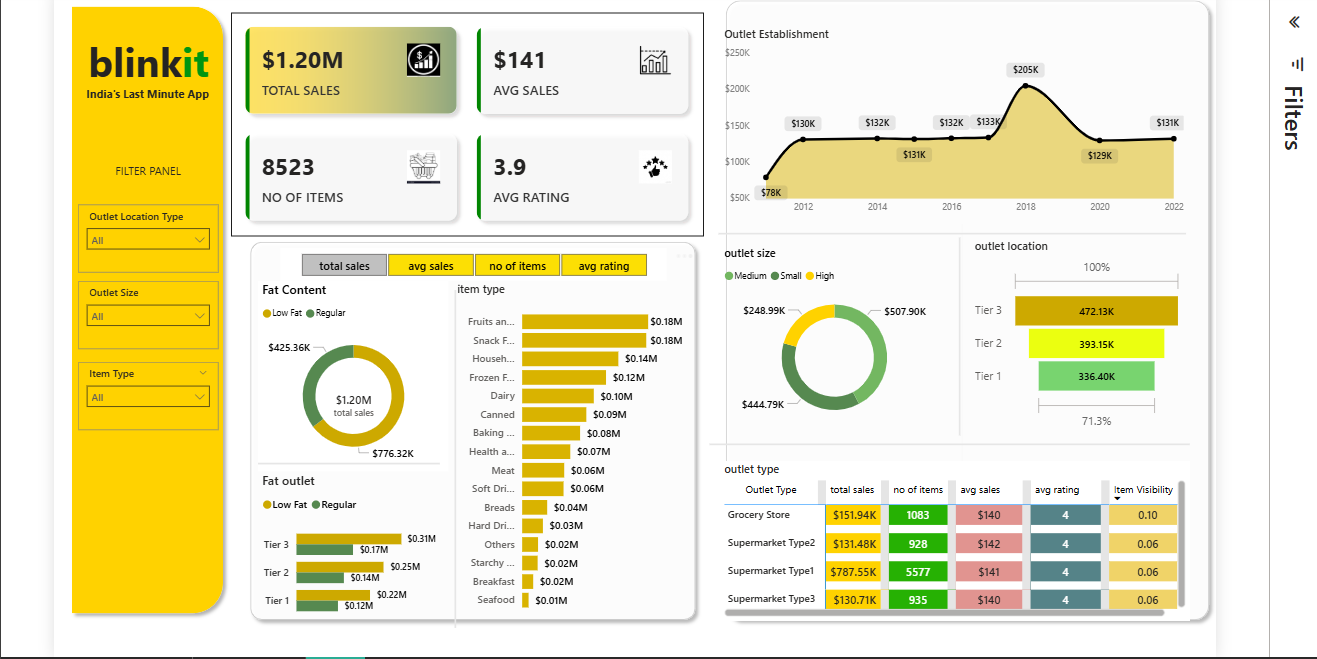

Layout of this report page (visuals, bound fields, positions):
{"tool":"powerbi","page":{"name":"Page 1","canvas":[1400,800],"ordinal":0},"visuals":[{"type":"shape","box":[12.7,7.3,200,749.1],"z":0},{"type":"textbox","box":[28.9,43.4,169.9,75.9],"z":1000},{"type":"textbox","box":[0,106.6,225.9,28.9],"z":2000},{"type":"cardVisual","fields":{"Data":["BlinkIT Grocery Data.total sales","BlinkIT Grocery Data.avg sales","BlinkIT Grocery Data.no of items","BlinkIT Grocery Data.avg rating"]},"box":[213.3,23.5,569.3,269.3],"z":3000},{"type":"shape","box":[227.4,291.4,553.9,473.3],"z":4000},{"type":"donutChart","title":" Fat Content","fields":{"Y":["BlinkIT Grocery Data.total sales"],"Category":["BlinkIT Grocery Data.Item Fat Content"]},"box":[246,347.2,229.4,229.4],"z":5000},{"type":"slicer","fields":{"Values":["metrics.metrics"]},"box":[272.8,308,465.1,39.3],"z":6000},{"type":"cardVisual","fields":{"Data":["BlinkIT Grocery Data.total sales"]},"box":[303.8,463,115.7,55.8],"z":7000},{"type":"clusteredBarChart","title":"Fat outlet","fields":{"Y":["BlinkIT Grocery Data.total sales"],"Category":["BlinkIT Grocery Data.Outlet Location Type"],"Series":["BlinkIT Grocery Data.Item Fat Content"]},"box":[246,576.7,219.1,188.1],"z":8000},{"type":"shape","box":[246,556,219.1,20.7],"z":9000},{"type":"shape","box":[1084.8,278.3,19.6,476.1],"z":10000},{"type":"barChart","title":"item type","fields":{"Y":["BlinkIT Grocery Data.total sales"],"Category":["BlinkIT Grocery Data.Item Type"]},"box":[481.6,347.2,281.1,407.2],"z":11000},{"type":"shape","box":[800.6,0,600,764.5],"z":12000},{"type":"lineChart","title":" Outlet Establishment ","fields":{"Y":["BlinkIT Grocery Data.total sales"],"Category":["BlinkIT Grocery Data.Outlet Establishment Year"]},"box":[801.9,40.4,563.5,234.6],"z":13000},{"type":"shape","box":[800,276.9,563.5,26.9],"z":14000},{"type":"donutChart","title":"outlet size","fields":{"Y":["BlinkIT Grocery Data.total sales"],"Category":["BlinkIT Grocery Data.Outlet Size"]},"box":[801.9,303.8,275,225],"z":15000},{"type":"shape","box":[475.1,357.2,16.5,407.2],"z":16000},{"type":"shape","box":[1082.7,294.2,17.3,238.5],"z":17000},{"type":"funnel","title":"outlet location","fields":{"Y":["Sum(BlinkIT Grocery Data.Sales)"],"Category":["BlinkIT Grocery Data.Outlet Location Type"]},"box":[1103.8,294.2,259.6,236.5],"z":18000},{"type":"shape","box":[790.4,530.8,578.8,25],"z":19000},{"type":"pivotTable","title":"outlet type","fields":{"Rows":["BlinkIT Grocery Data.Outlet Type"],"Values":["BlinkIT Grocery Data.total sales","BlinkIT Grocery Data.no of items","BlinkIT Grocery Data.avg sales","BlinkIT Grocery Data.avg rating","Avg(BlinkIT Grocery Data.Item Visibility)"]},"box":[801.9,563.5,565.4,192.3],"z":20000},{"type":"slicer","fields":{"Values":["BlinkIT Grocery Data.Outlet Location Type"]},"box":[29.1,254.5,169.1,81.8],"z":21000},{"type":"slicer","fields":{"Values":["BlinkIT Grocery Data.Outlet Size"]},"box":[29.1,347.3,169.1,81.8],"z":22000},{"type":"slicer","fields":{"Values":["BlinkIT Grocery Data.Item Type"]},"box":[29.1,445.5,169.1,81.8],"z":23000},{"type":"textbox","box":[29.1,198.2,169.1,43.6],"z":24000}]}

Visuals, with their boxes on the page's 1400x800 design canvas (x1, y1, x2, y2). These are canvas units, not pixel positions in the 1317x659 screenshot, which may show the page scaled, cropped or inside an application window:
shape: {"left": 13, "top": 7, "right": 213, "bottom": 756}
textbox: {"left": 29, "top": 43, "right": 199, "bottom": 119}
textbox: {"left": 0, "top": 107, "right": 226, "bottom": 136}
cardVisual - BlinkIT Grocery Data.total sales x BlinkIT Grocery Data.avg sales: {"left": 213, "top": 24, "right": 783, "bottom": 293}
shape: {"left": 227, "top": 291, "right": 781, "bottom": 765}
" Fat Content" donutChart: {"left": 246, "top": 347, "right": 475, "bottom": 577}
slicer - metrics.metrics: {"left": 273, "top": 308, "right": 738, "bottom": 347}
cardVisual - BlinkIT Grocery Data.total sales: {"left": 304, "top": 463, "right": 420, "bottom": 519}
"Fat outlet" clusteredBarChart: {"left": 246, "top": 577, "right": 465, "bottom": 765}
shape: {"left": 246, "top": 556, "right": 465, "bottom": 577}
shape: {"left": 1085, "top": 278, "right": 1104, "bottom": 754}
"item type" barChart: {"left": 482, "top": 347, "right": 763, "bottom": 754}
shape: {"left": 801, "top": 0, "right": 1401, "bottom": 764}
" Outlet Establishment " lineChart: {"left": 802, "top": 40, "right": 1365, "bottom": 275}
shape: {"left": 800, "top": 277, "right": 1364, "bottom": 304}
"outlet size" donutChart: {"left": 802, "top": 304, "right": 1077, "bottom": 529}
shape: {"left": 475, "top": 357, "right": 492, "bottom": 764}
shape: {"left": 1083, "top": 294, "right": 1100, "bottom": 533}
"outlet location" funnel: {"left": 1104, "top": 294, "right": 1363, "bottom": 531}
shape: {"left": 790, "top": 531, "right": 1369, "bottom": 556}
"outlet type" pivotTable: {"left": 802, "top": 564, "right": 1367, "bottom": 756}
slicer - BlinkIT Grocery Data.Outlet Location Type: {"left": 29, "top": 254, "right": 198, "bottom": 336}
slicer - BlinkIT Grocery Data.Outlet Size: {"left": 29, "top": 347, "right": 198, "bottom": 429}
slicer - BlinkIT Grocery Data.Item Type: {"left": 29, "top": 446, "right": 198, "bottom": 527}
textbox: {"left": 29, "top": 198, "right": 198, "bottom": 242}
